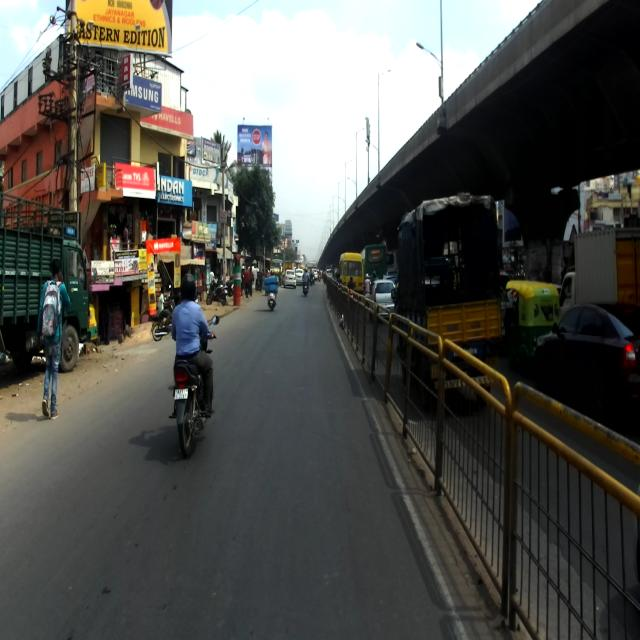motorcycle ahead at: (169, 352, 218, 458)
person ahead at: (38, 253, 72, 424)
